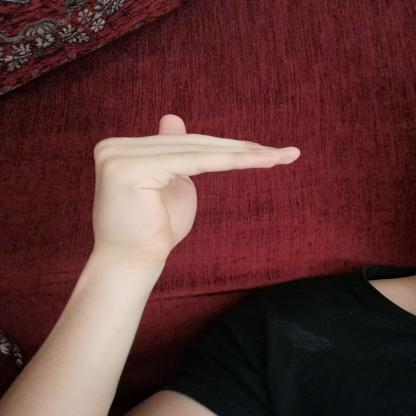KHAA: (70, 106, 318, 270)
